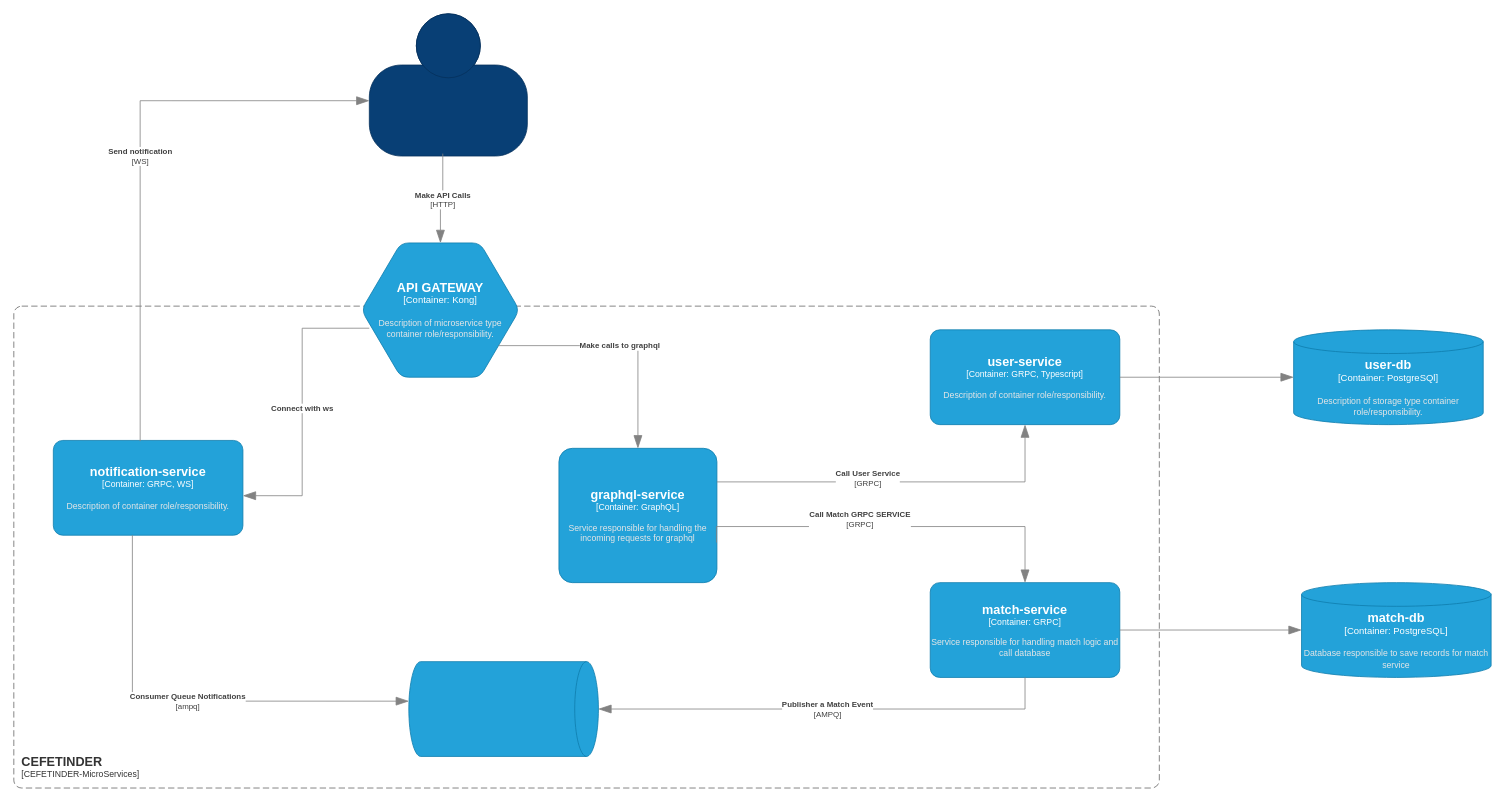
The diagram is 1505 pixels wide and 802 high, and some of its shapes have lost their labels. The shapes that lost their labels are listed below. From the top down, each one's centre as x and y in pixels, then its label:
At point (448, 84): "User [Person] Description of person.".
At point (503, 708): "cefet-tinder-rabbitmq [Container: RabbitMQ] Notification Queue".
